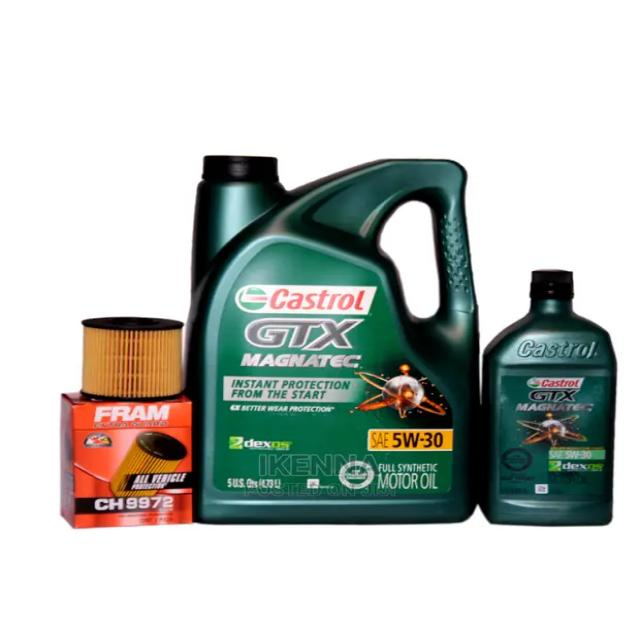motor_oil: (192, 148, 484, 532), (492, 265, 626, 536)
oil_filter: (79, 299, 188, 403)
